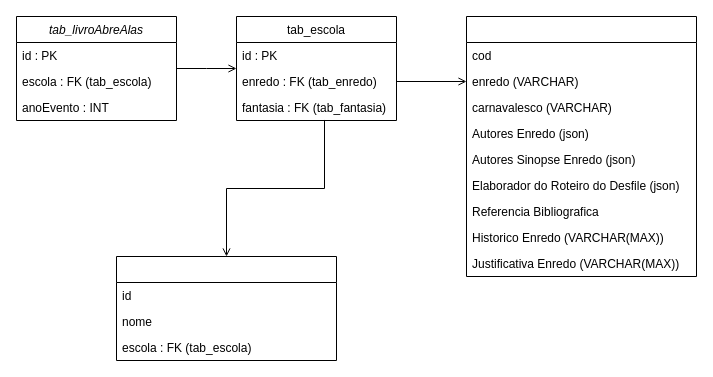
Image size: 713x377. Some labels were removed from this diagram. The box of each missing label's shape, as (x1, y1, x2, y2) in pixels:
tab_enredo: (466, 16, 696, 276)
tab_usuario: (116, 256, 336, 360)
